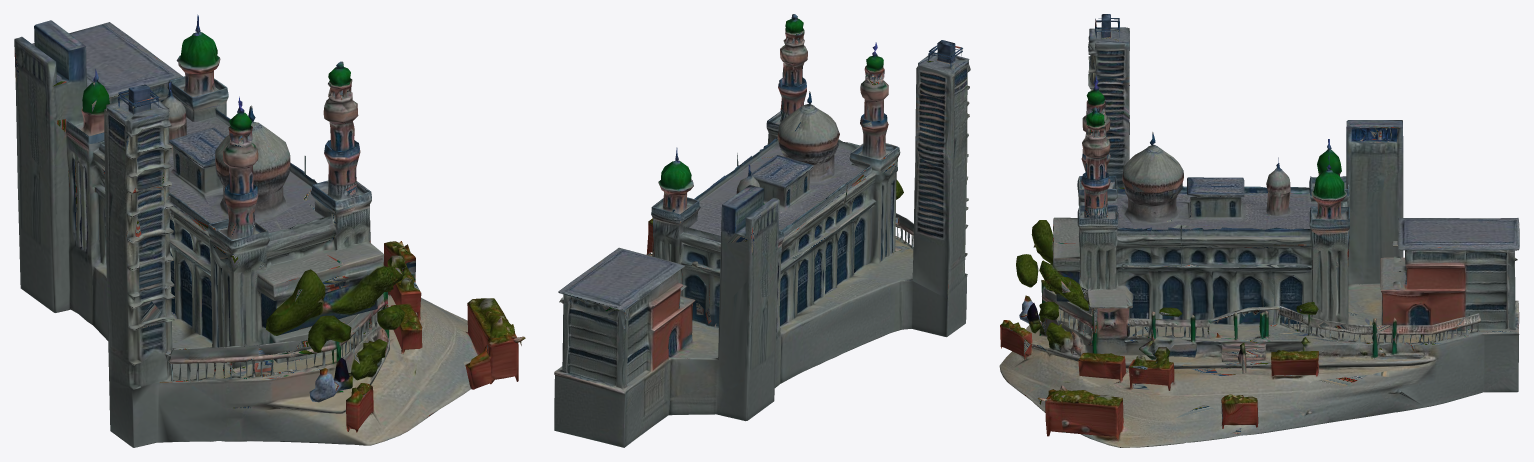
File: urumqi-5.glb
3 renders of one model, left to right at view 1: azimuth 30°, elevation 25°; view 2: azimuth 150°, elevation 25°; view 3: azimuth 270°, elevation 25°, orthographic. The views are drawn at different scales.
Visible parts, largest first — view 1: Urumqi architecture 5; view 2: Urumqi architecture 5; view 3: Urumqi architecture 5.
Part boxes in pixels (x1,y1,x2,y2): Urumqi architecture 5: (14,14,525,447); Urumqi architecture 5: (554,14,970,447); Urumqi architecture 5: (999,14,1519,447).
Bounding box in the file's own units: 0.7088 × 0.6025 × 0.9982.
Materials: 1 (1 with a texture image).
